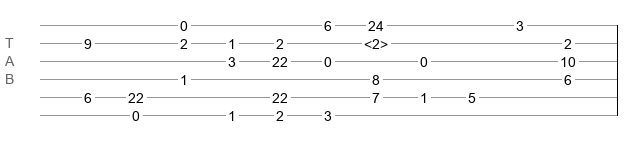0: (132, 108, 140, 118), (180, 18, 188, 28), (324, 54, 332, 64), (420, 54, 428, 64)
1: (180, 72, 188, 82), (228, 36, 236, 46), (228, 108, 236, 118), (420, 90, 428, 100)
10: (560, 54, 576, 64)
2: (180, 36, 188, 46), (276, 108, 284, 118), (276, 36, 284, 46), (564, 36, 572, 46)
22: (128, 90, 144, 100), (272, 90, 288, 100), (272, 54, 288, 64)
24: (368, 18, 384, 28)
3: (228, 54, 236, 64), (324, 108, 332, 118), (516, 18, 524, 28)
5: (468, 90, 476, 100)
6: (84, 90, 92, 100), (324, 18, 332, 28), (564, 72, 572, 82)
7: (372, 90, 380, 100)
8: (372, 72, 380, 82)
9: (84, 36, 92, 46)
harmonic: (364, 36, 388, 46)
